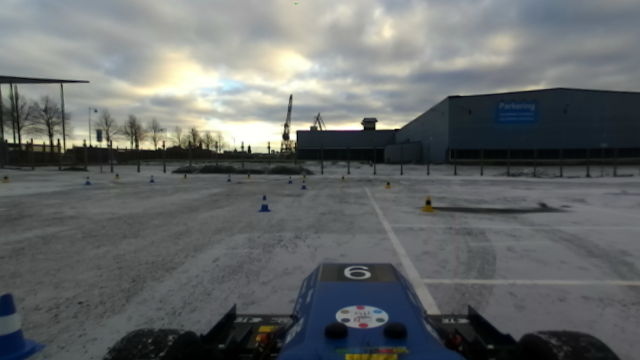blue: (256, 192, 272, 215)
yellow: (419, 194, 437, 214)
